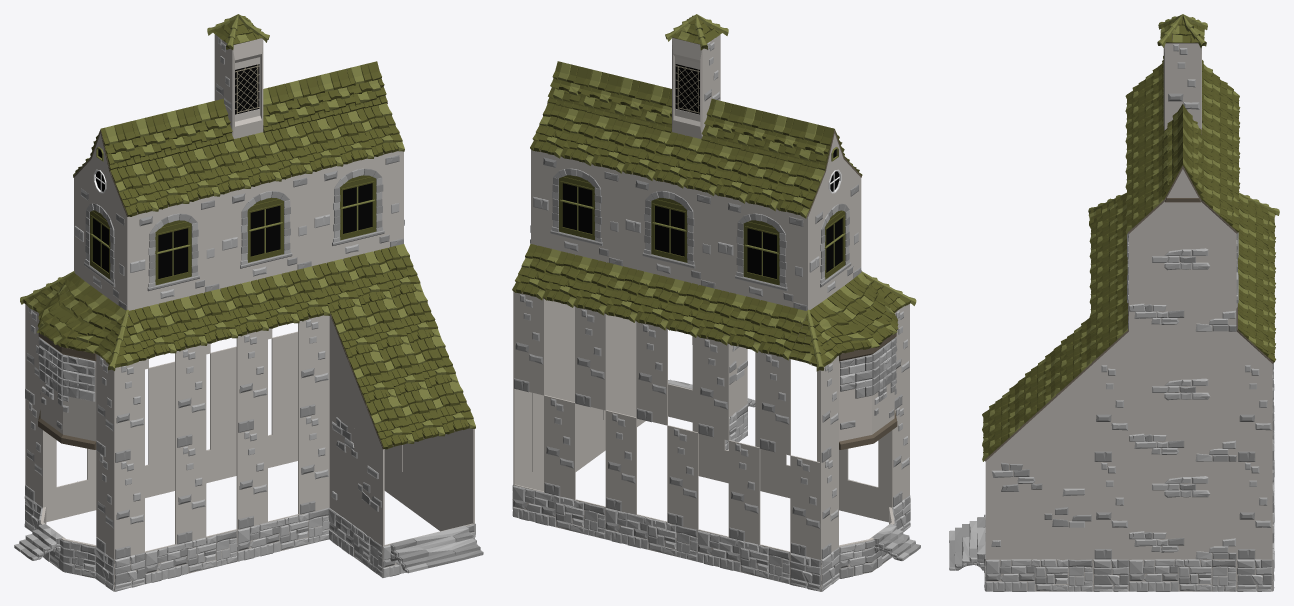
Rendered from HOUSE_8_PARTS.fbx.
3 renders of one model, left to right at view 1: azimuth 30°, elevation 25°; view 2: azimuth 150°, elevation 25°; view 3: azimuth 270°, elevation 25°, orthographic.
Visible parts, largest first — view 1: WINDOW_05_12, WINDOW_05_11, WINDOW_05_10, BALKON_02_2, WALL_01_2, WINDOW_05_13, ROOF_base_round_2, WALL_01_3, WALL_06_3, WALL_06_4, WALL_06_5, WALL_06_7 (+69 smaller); view 2: WINDOW_05_14, WINDOW_05_15, WINDOW_05_16, BALKON_02_2, WINDOW_05_13, ROOF_base_round_2, WALL_06_23, WALL_06_25, WALL_06_24, WALL_06_27, FOUNDATION_03_8, WALL_06_20 (+62 smaller); view 3: WALL_01_3, WALL_03_2, WALL_03_3, WALL_03_4, WALL_06_17, WALL_06_16, FOUNDATION_03_10, FOUNDATION_03_9, WALL_06_18, WALL_06_15, WALL_06_33, STAIRS_04_3 (+65 smaller).
Boxes of the visible parts, x1,y1,x2,y2 form: WINDOW_05_12: (311, 151, 403, 266); WINDOW_05_11: (219, 173, 311, 289); WINDOW_05_10: (127, 196, 219, 310); BALKON_02_2: (38, 332, 96, 449); WALL_01_2: (329, 411, 384, 545); WINDOW_05_13: (74, 178, 128, 310); ROOF_base_round_2: (37, 272, 125, 353); WALL_01_3: (420, 428, 474, 523); WALL_06_3: (298, 410, 329, 514); WALL_06_4: (236, 425, 267, 529); WALL_06_5: (175, 440, 206, 544); WALL_06_7: (298, 315, 329, 417); WINDOW_05_14: (715, 195, 808, 310); WINDOW_05_15: (623, 172, 715, 289); WINDOW_05_16: (531, 149, 623, 266); BALKON_02_2: (839, 333, 897, 449); WINDOW_05_13: (808, 178, 861, 309); ROOF_base_round_2: (809, 272, 898, 353); WALL_06_23: (728, 440, 760, 544); WALL_06_25: (605, 410, 636, 514); WALL_06_24: (667, 425, 698, 529); WALL_06_27: (544, 395, 575, 499); FOUNDATION_03_8: (697, 529, 790, 584); WALL_06_20: (636, 321, 667, 425); WALL_01_3: (985, 461, 1093, 558); WALL_03_2: (1129, 461, 1236, 559); WALL_03_3: (1129, 364, 1236, 461); WALL_03_4: (1129, 234, 1236, 331); WALL_06_17: (1236, 364, 1272, 461); WALL_06_16: (1236, 461, 1272, 559); FOUNDATION_03_10: (985, 559, 1093, 591); FOUNDATION_03_9: (1129, 559, 1236, 591); WALL_06_18: (1093, 364, 1128, 461); WALL_06_15: (1093, 461, 1128, 559); WALL_06_33: (1165, 43, 1200, 129); STAIRS_04_3: (949, 517, 985, 570).
Bounding box in the file's own units: 1158 × 1566 × 922.
